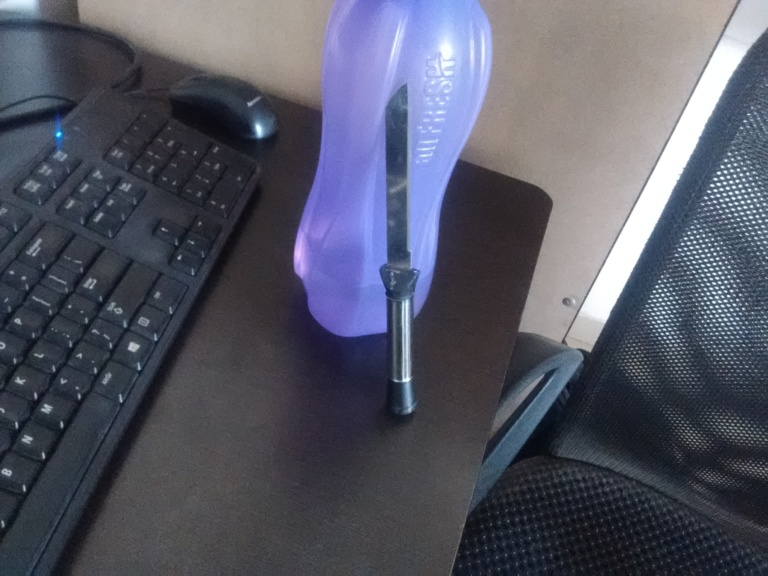knife: (378, 82, 421, 419)
